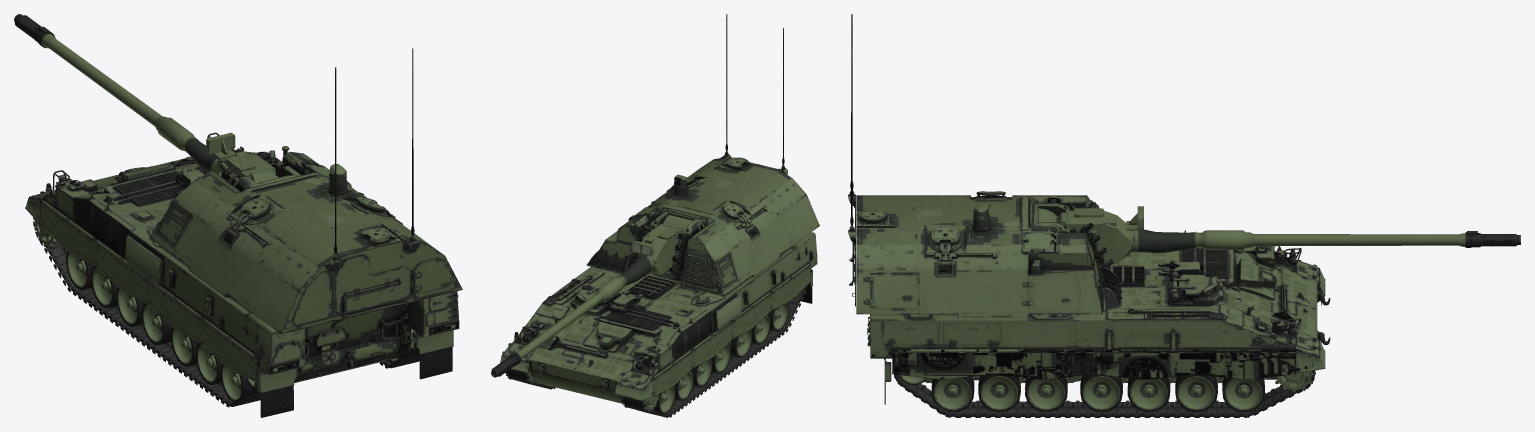
The model's file is pzh2000.glb.
3 views of the same model, side by side, from view 1: azimuth 30°, elevation 25°; view 2: azimuth 150°, elevation 25°; view 3: azimuth 270°, elevation 25° (orthographic). The views are drawn at different scales.
Parts seen in each view (by area): view 1: V_pzh2000; view 2: V_pzh2000; view 3: V_pzh2000.
Boxes of the visible parts, left/top/right/bottom form: V_pzh2000: left=14, top=14, right=462, bottom=417; V_pzh2000: left=491, top=14, right=819, bottom=417; V_pzh2000: left=848, top=14, right=1520, bottom=417.
Size of the model in its own units: 10.52 by 18.35 by 32.68.
Materials: 6 (6 with a texture image).
